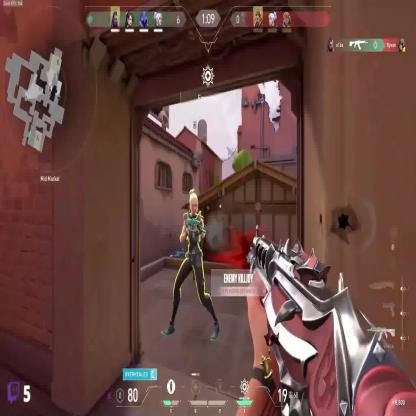enemy: (160, 185, 221, 343)
enemy_head: (188, 190, 200, 216)
